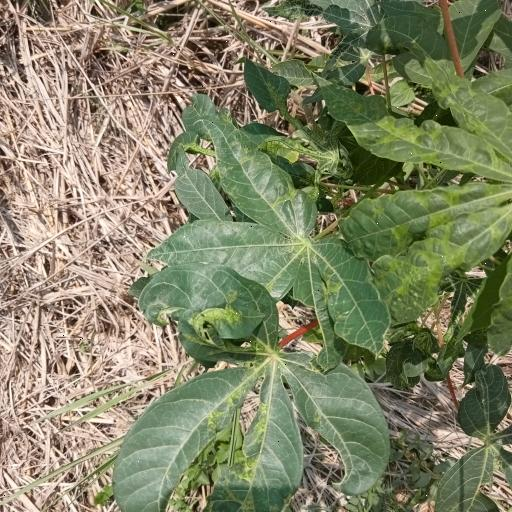Cassava_Mosaic: (115, 266, 383, 512), (354, 58, 512, 316)
